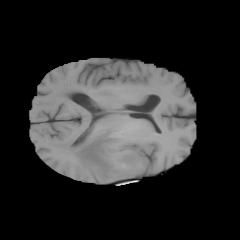glioma: (68, 130, 148, 179)
